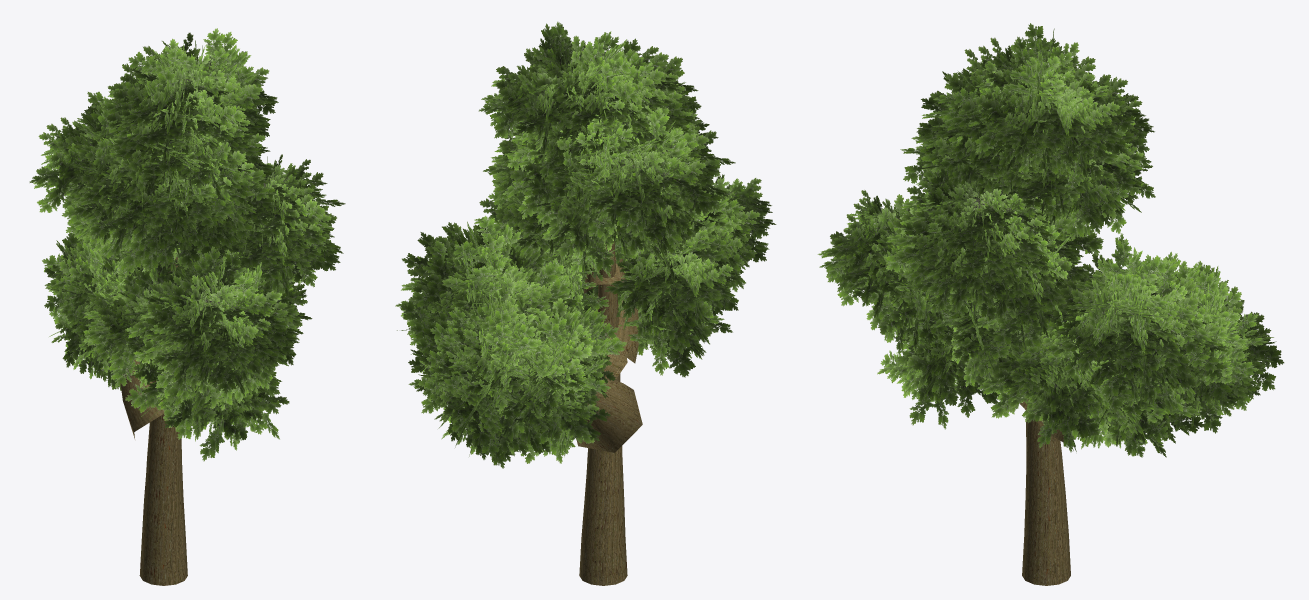
File: tree.glb
3 views of the same model, side by side, from view 1: azimuth 30°, elevation 25°; view 2: azimuth 150°, elevation 25°; view 3: azimuth 270°, elevation 25° (orthographic).
Visible parts, largest first — view 1: Tree; view 2: Tree; view 3: Tree.
Boxes of the visible parts, box(x1,y1,x2,y2) form: Tree: box(29, 28, 345, 585); Tree: box(395, 21, 776, 585); Tree: box(817, 23, 1284, 585).
Size of the model in its own units: 28.56 by 51.45 by 40.21.
Materials: 2 (2 with a texture image).
